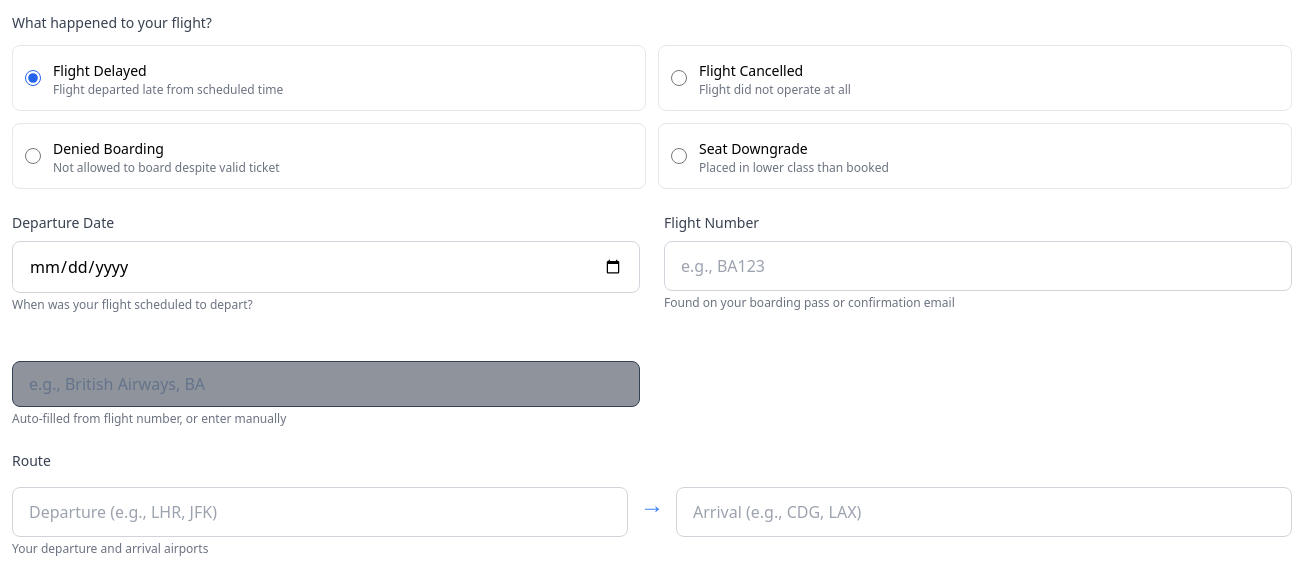
Test: FlightLookupForm - Conditional Rendering › cancellation-specific fields › should show alternative timing fields when alternative offered is checked
Step 1. Click the radio button labelled "Flight Cancelled Flight did not operate at all" → (679, 78), box 671,70 -> 687,86
(page scrolled)
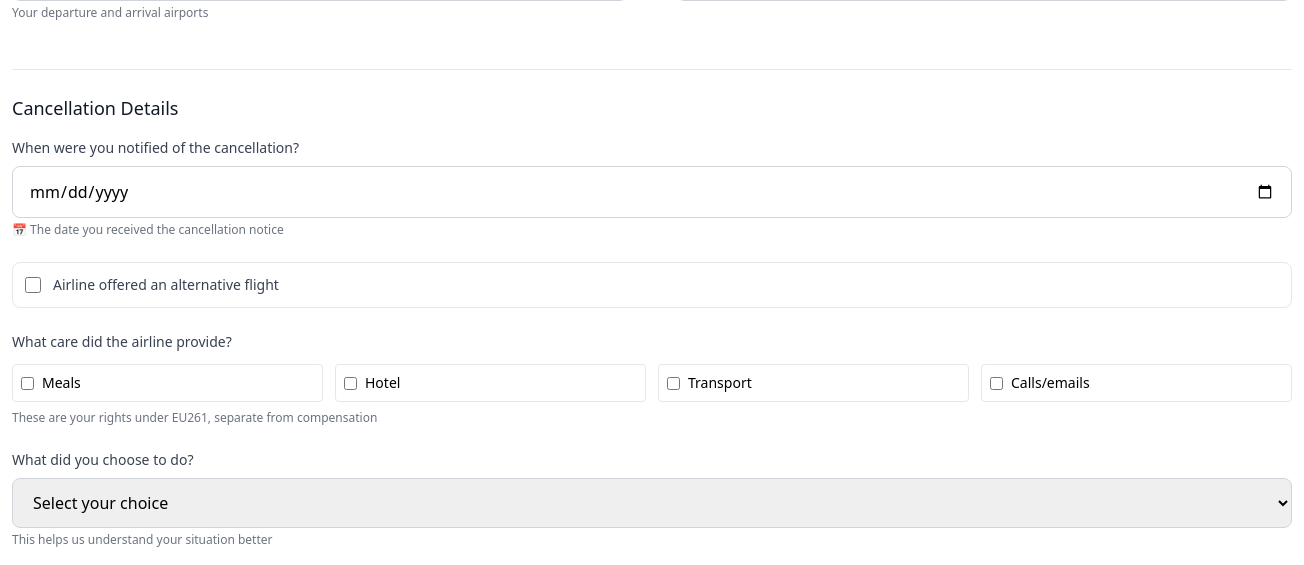
Expected: the text "How much later did the alternative depart" is not shown
Check alternative offered checkbox
Step 2. Click the checkbox labelled "Airline offered an alternative flight" → (33, 285), box 25,277 -> 41,293
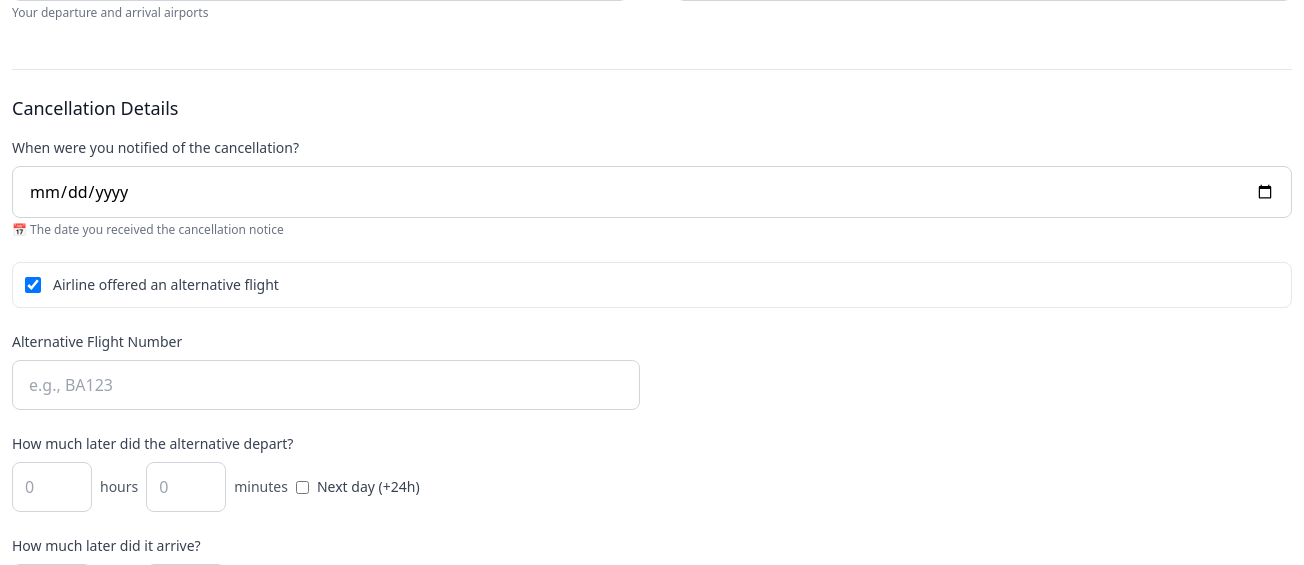
Now the text "How much later did the alternative depart?" is shown, box 12,434 -> 293,453
